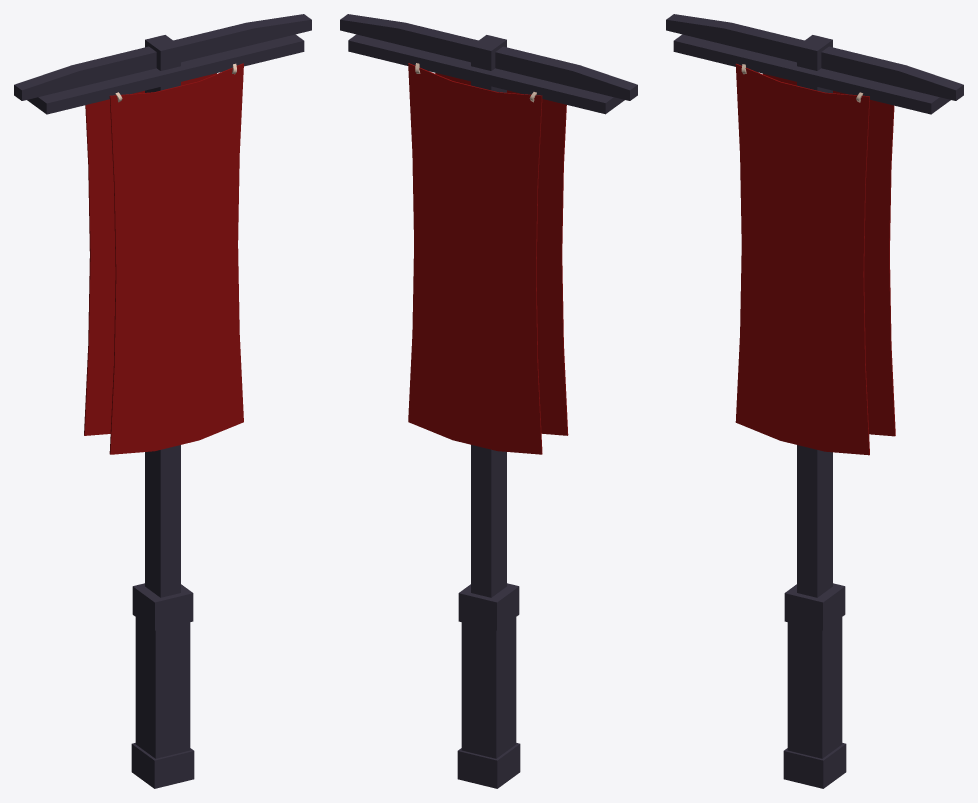
Rendered from flag_banner_01.fbx.
The picture shows the model from 3 angles, left to right: view 1: azimuth 30°, elevation 25°; view 2: azimuth 150°, elevation 25°; view 3: azimuth 330°, elevation 25°; orthographic projection.
Visible parts, largest first — view 1: flag_banner_01; view 2: flag_banner_01; view 3: flag_banner_01.
Part boxes in pixels (bbox=[...]): flag_banner_01: bbox=[14, 14, 311, 788]; flag_banner_01: bbox=[340, 14, 637, 788]; flag_banner_01: bbox=[666, 14, 963, 788].
Bounding box in the file's own units: 163 × 394 × 29.19.
